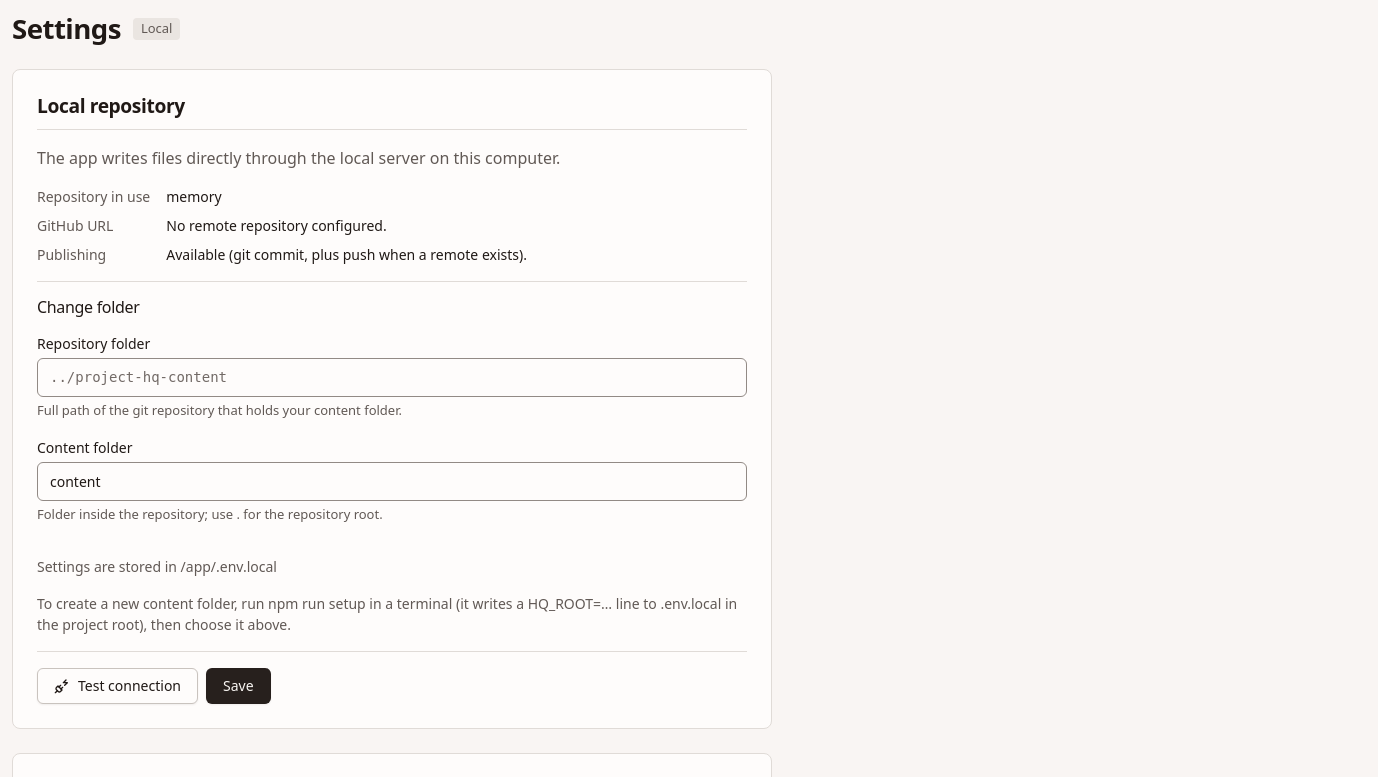
Test: local repository form › saves the folder
Type "/work/notes" into the field labelled "Repository folder" at [392, 378], box [37,358,747,397]
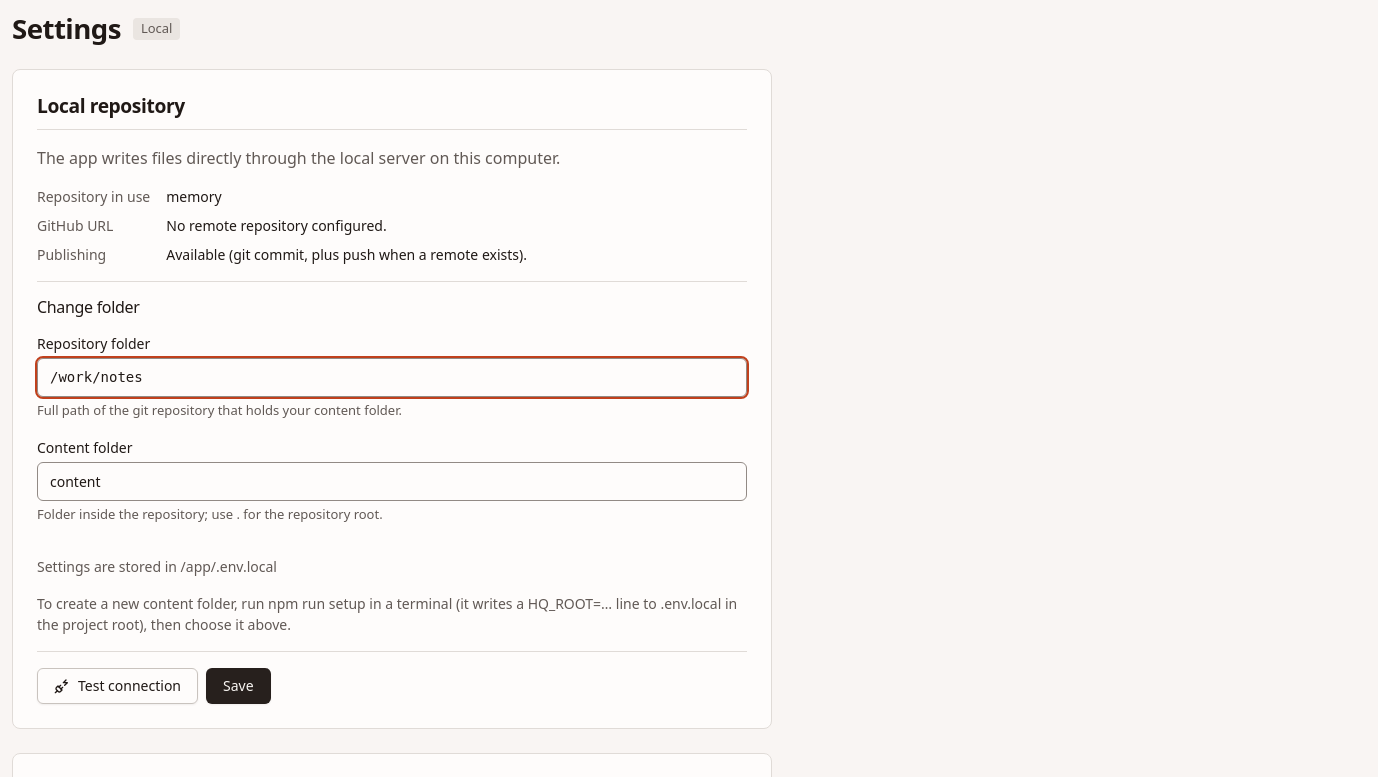
Click the button "Save" at [238, 686], box [206,668,271,704]
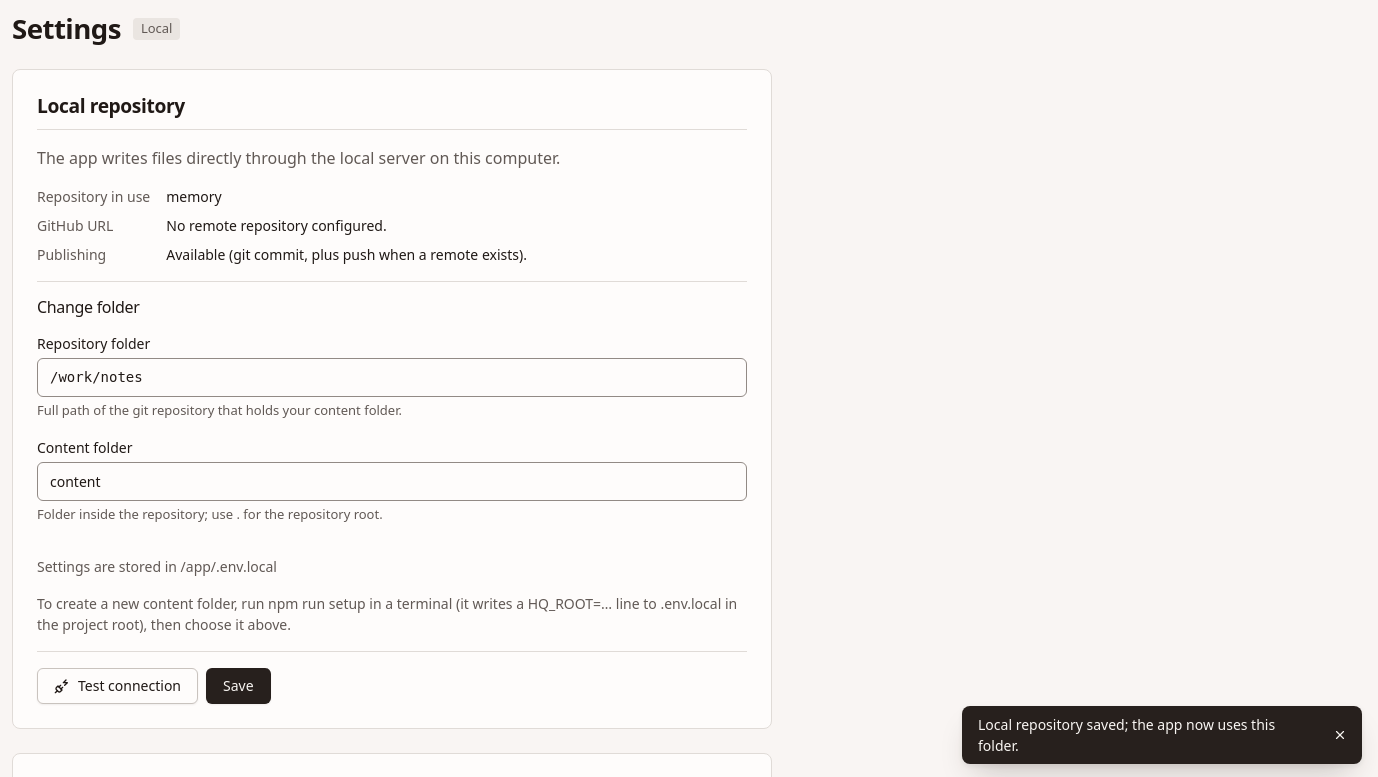
Expected: the text "Local repository saved; the app now uses this folder." is shown, [978,714,1318,756]
